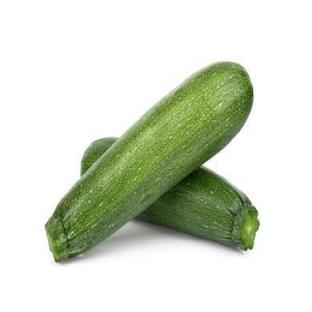Zucchini: (46, 63, 252, 261), (137, 167, 259, 249)
